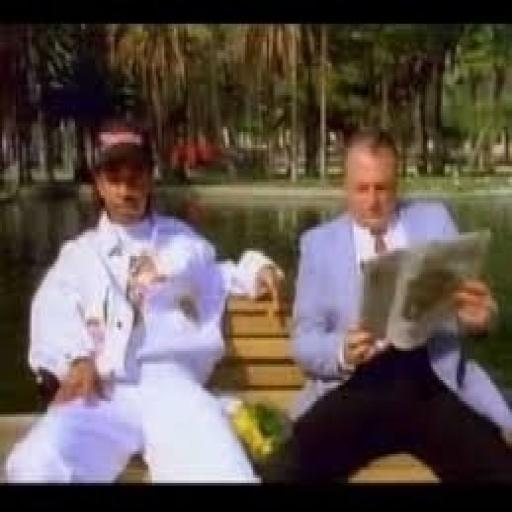sitting: (4, 103, 285, 483), (281, 122, 510, 486)
